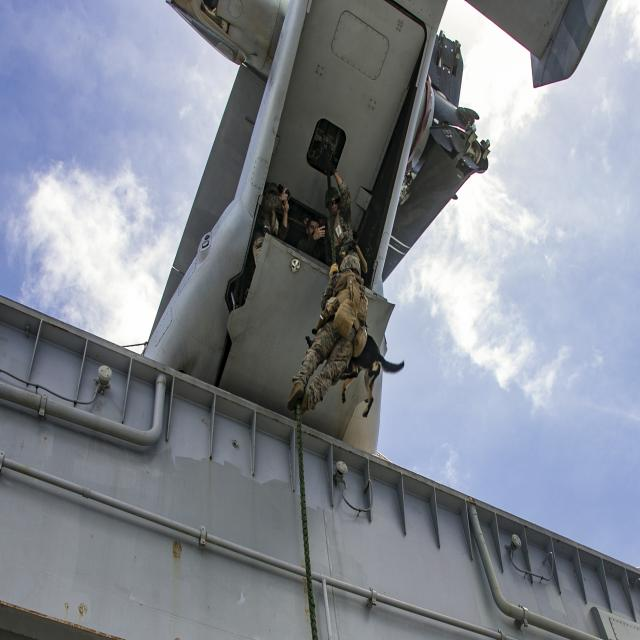MIL_Plane: (143, 1, 608, 456)
